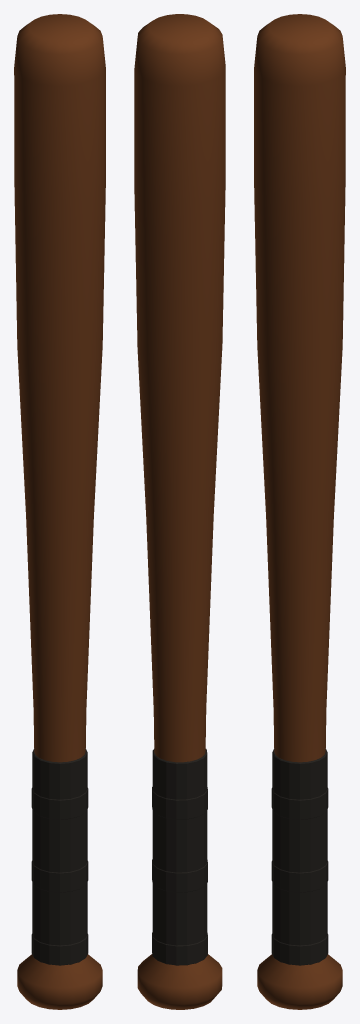
The model's file is bat.glb.
3 renders of one model, left to right at view 1: azimuth 90°, elevation 25°; view 2: azimuth 150°, elevation 25°; view 3: azimuth 270°, elevation 25°, orthographic.
Visible parts, largest first — view 1: bat; view 2: bat; view 3: bat.
Part boxes in pixels (x1,y1,x2,y2): bat: (14,14,105,1009); bat: (134,14,225,1009); bat: (254,14,345,1009).
Bounding box in the file's own units: 0.073 × 0.85 × 0.073.
